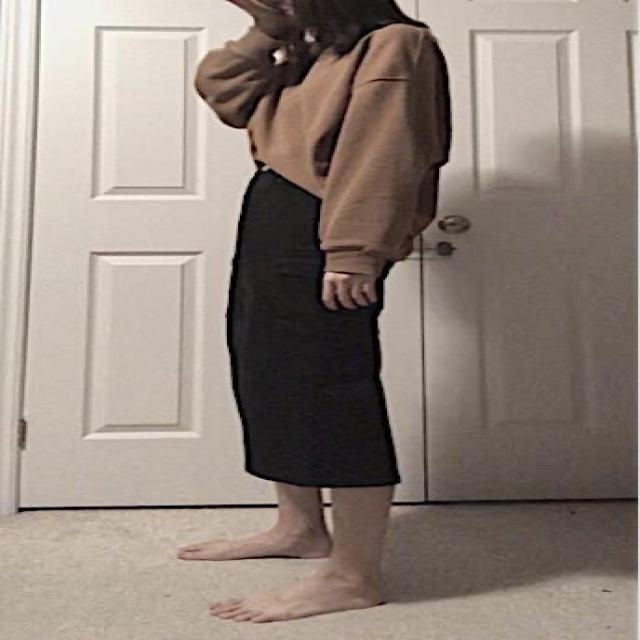mtm: (194, 12, 452, 276)
skirt: (228, 162, 408, 488)
